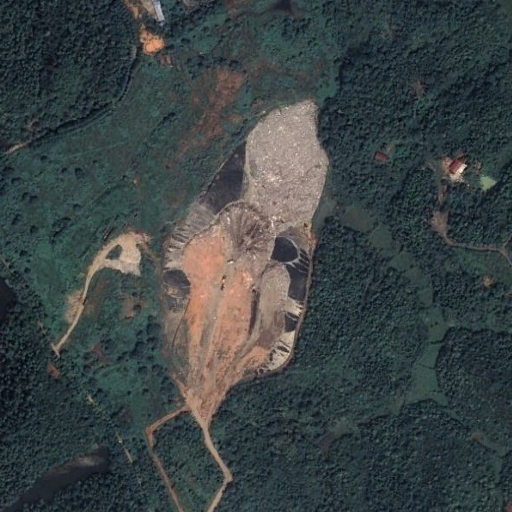lf: (161, 101, 328, 381)
